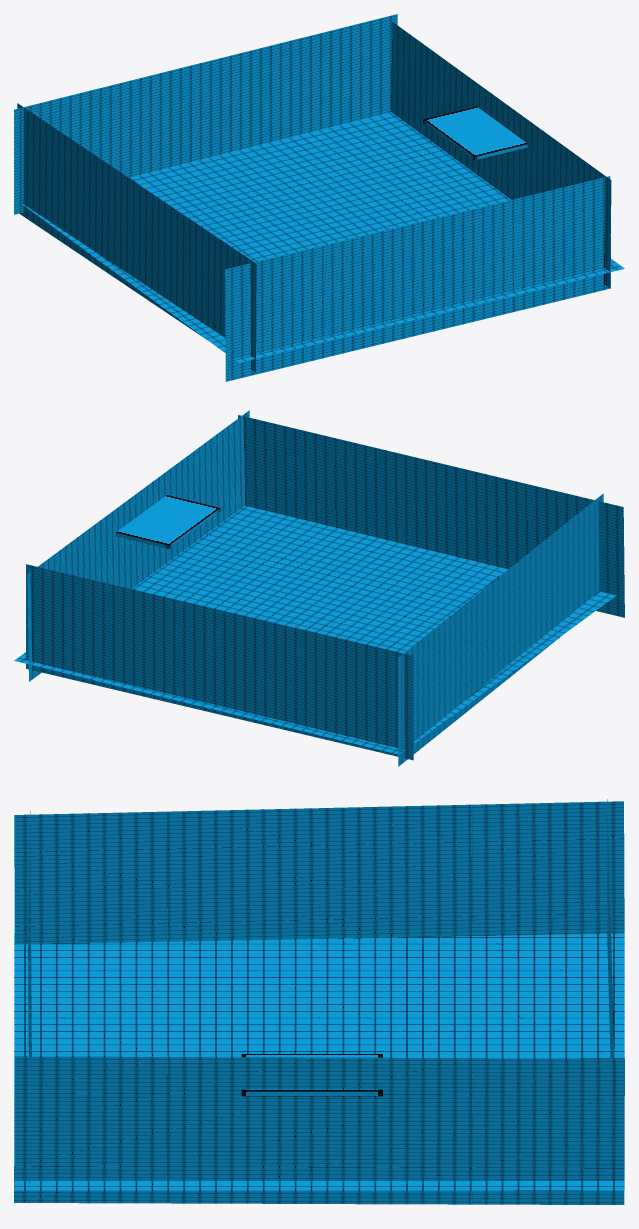
The model's file is Background3.FBX.
3 views of the same model, one above another, from view 1: azimuth 30°, elevation 25°; view 2: azimuth 150°, elevation 25°; view 3: azimuth 270°, elevation 25° (orthographic). The views are drawn at different scales.
Parts seen in each view (by area): view 1: Plane004, Plane001, Plane005, Plane002, Plane003, Box001; view 2: Plane005, Plane001, Plane004, Plane002, Plane003, Box001; view 3: Plane003, Plane002, Plane001, Box001, Plane005, Plane004.
Boxes of the visible parts, <box> form: Plane004: <box>225,176,610,381</box>; Plane001: <box>22,112,624,362</box>; Plane005: <box>14,14,397,214</box>; Plane002: <box>17,103,256,372</box>; Plane003: <box>391,22,611,288</box>; Box001: <box>423,106,527,160</box>; Plane005: <box>26,564,413,760</box>; Plane001: <box>14,505,615,754</box>; Plane004: <box>238,415,624,617</box>; Plane002: <box>398,493,603,766</box>; Plane003: <box>27,410,249,681</box>; Box001: <box>116,495,220,548</box>; Plane003: <box>14,1056,624,1204</box>; Plane002: <box>14,801,624,944</box>; Plane001: <box>14,932,624,1190</box>; Box001: <box>241,1054,382,1096</box>; Plane005: <box>607,799,614,1196</box>; Plane004: <box>28,810,31,1203</box>.
Size of the model in its own units: 259370 by 254271 by 74442.
